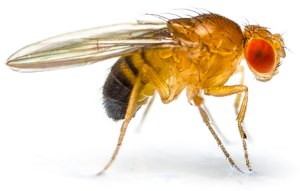phorid fly: (1, 3, 293, 181)
